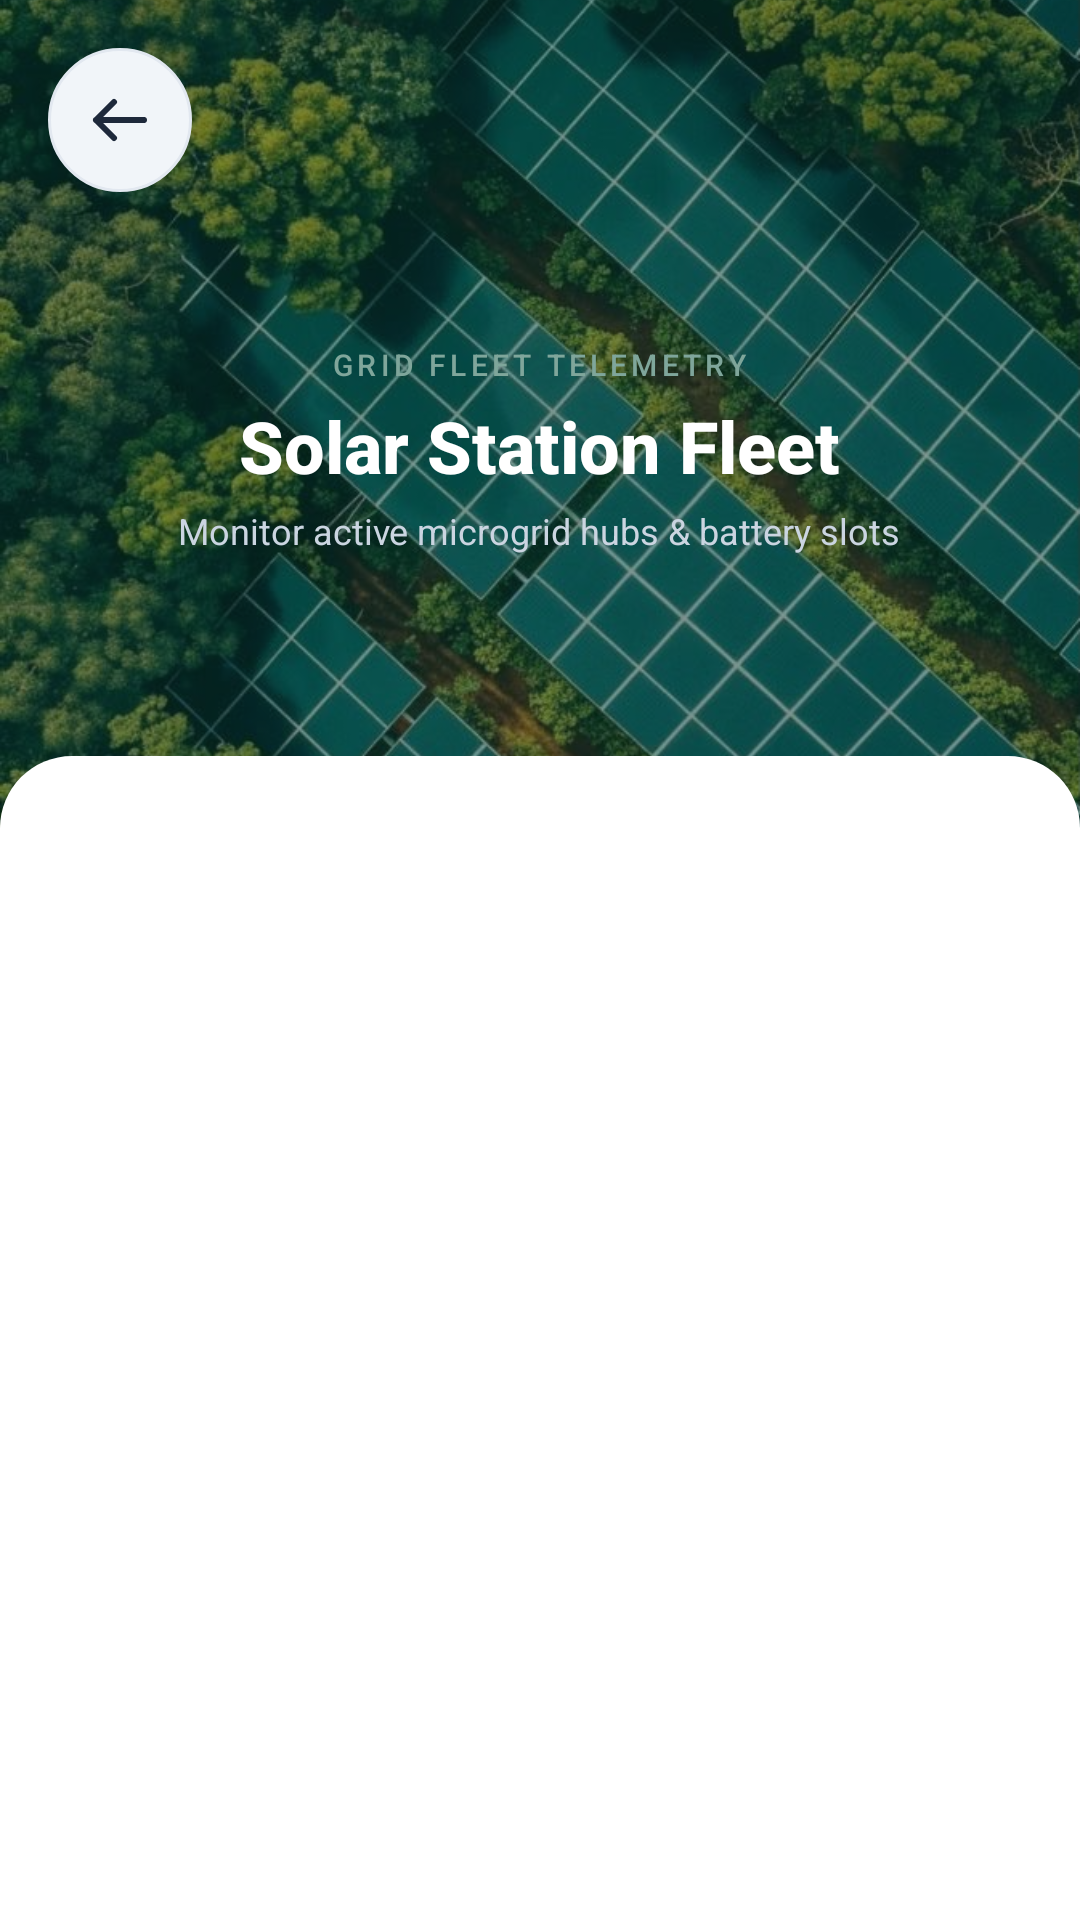

Locate icon controls on the screen. Image size 1080*1920, boxes as (x1, y1, x2, y2).
Back: (93, 99, 147, 141)
